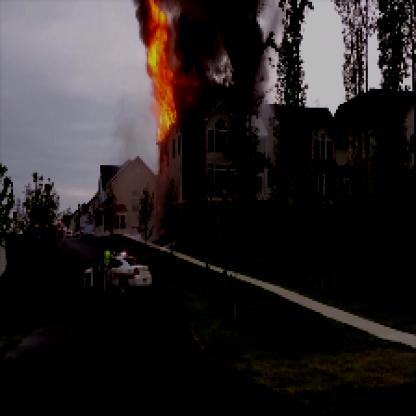Fire: (139, 2, 195, 148)
Smoke: (176, 2, 266, 108)
